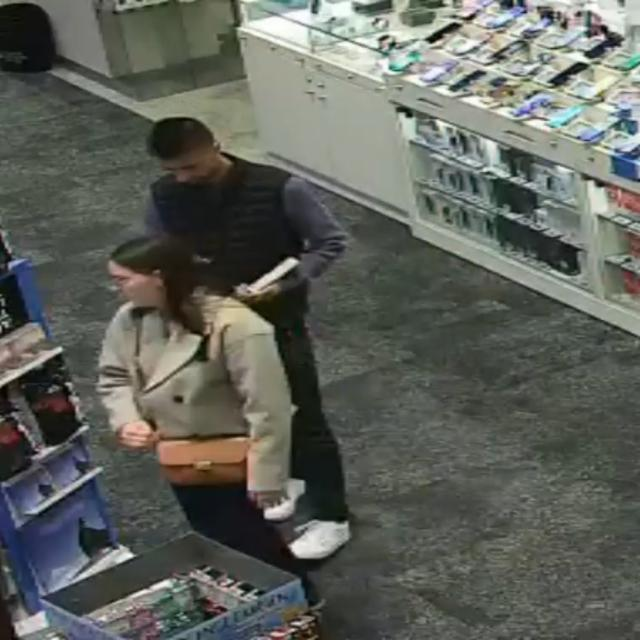article: (247, 257, 299, 293)
bags: (157, 437, 250, 485)
hands: (118, 421, 157, 449), (234, 283, 281, 305), (250, 491, 286, 509)
person: (146, 118, 350, 559), (98, 238, 317, 604)
